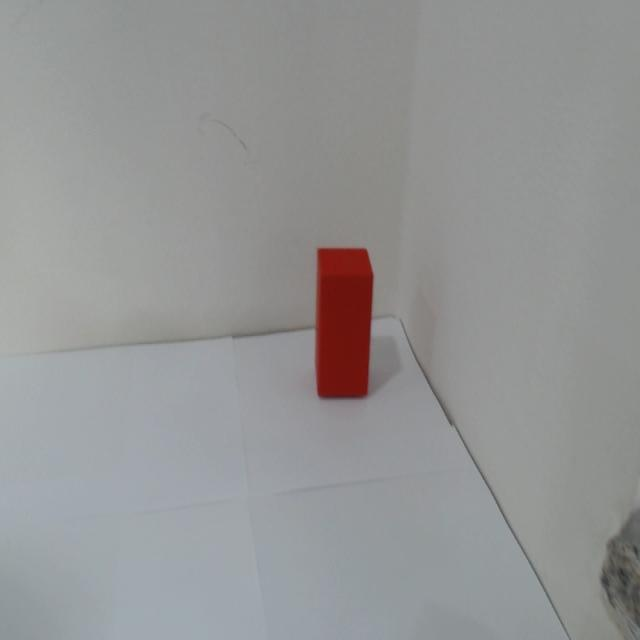cube: (313, 247, 376, 397)
